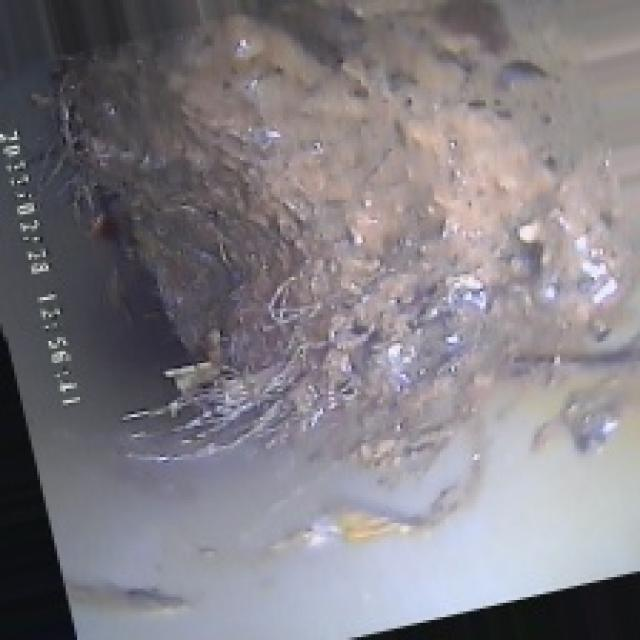sluge accumulation: (85, 20, 626, 457)
